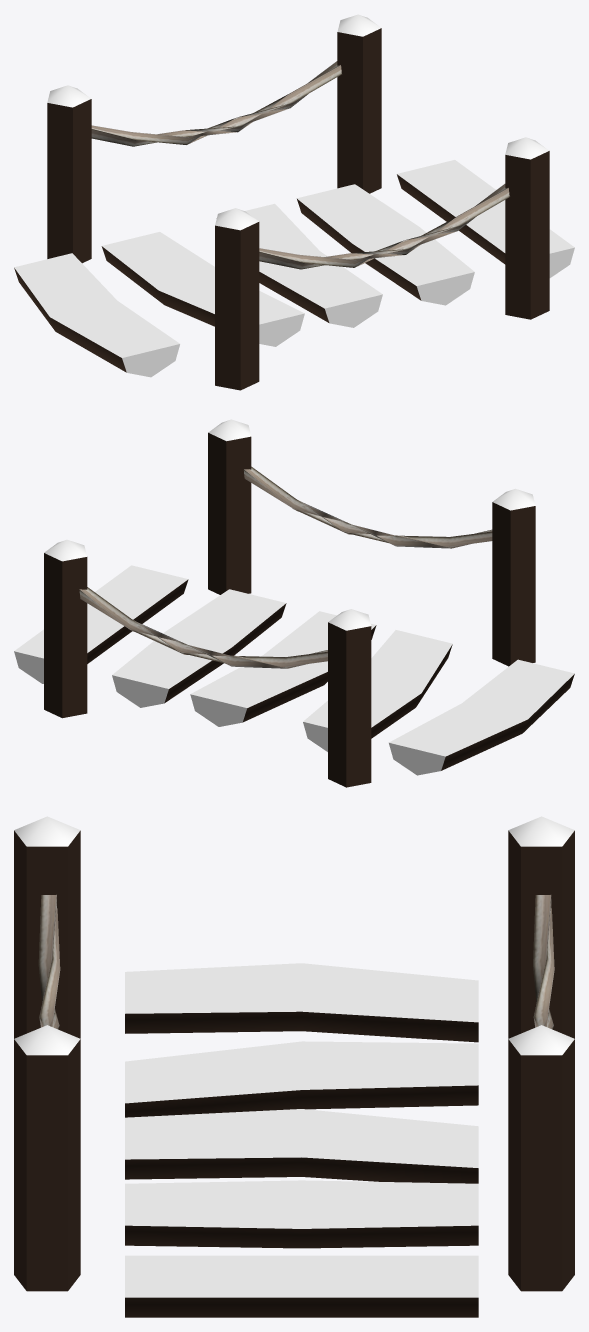
The model's file is LoveDeath_Bridge_Fragment_Art.fbx.
3 renders of one model, top to bottom at view 1: azimuth 30°, elevation 25°; view 2: azimuth 150°, elevation 25°; view 3: azimuth 270°, elevation 25°, orthographic. The views are drawn at different scales.
Parts seen in each view (by area): view 1: LoveDeath_Bridge_Fragment_Art; view 2: LoveDeath_Bridge_Fragment_Art; view 3: LoveDeath_Bridge_Fragment_Art.
Boxes of the visible parts, left/top/right/bottom form: LoveDeath_Bridge_Fragment_Art: left=14, top=14, right=574, bottom=390; LoveDeath_Bridge_Fragment_Art: left=14, top=419, right=574, bottom=787; LoveDeath_Bridge_Fragment_Art: left=14, top=816, right=574, bottom=1317.
Bounding box in the file's own units: 315 × 113 × 223.
